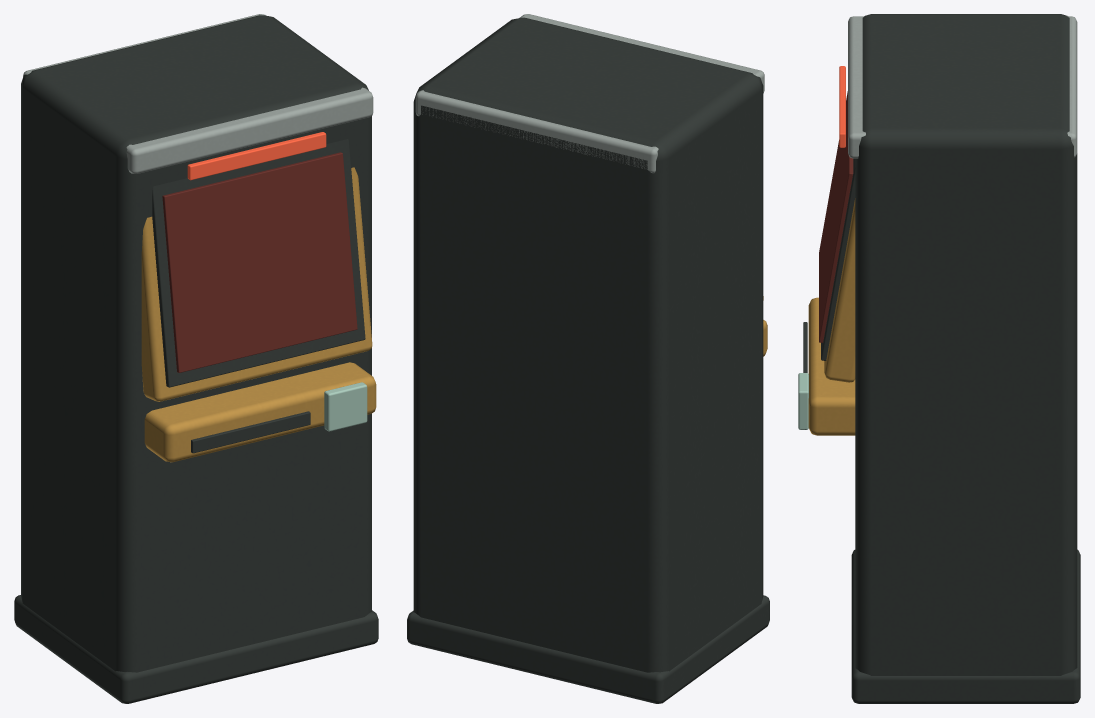
File: ticket-machine-broken.glb
The picture shows the model from 3 angles, left to right: view 1: azimuth 30°, elevation 25°; view 2: azimuth 150°, elevation 25°; view 3: azimuth 270°, elevation 25°; orthographic projection. The views are drawn at different scales.
Parts seen in each view (by area): view 1: chassis, screen, foot_plinth, ticket_shelf, screen_recess, top_cap, screen_frame, status_indicator, card_reader, ticket_slot; view 2: chassis, foot_plinth, top_cap; view 3: chassis, foot_plinth, ticket_shelf, screen, top_cap, screen_frame, screen_recess, card_reader, status_indicator.
Boxes of the visible parts, x1,y1,x2,y2 form: chassis: (21,15,371,672); screen: (162,152,357,372); foot_plinth: (14,595,378,703); ticket_shelf: (144,362,376,462); screen_recess: (152,139,365,387); top_cap: (23,14,373,173); screen_frame: (141,167,372,401); status_indicator: (187,132,326,180); card_reader: (324,382,367,431); ticket_slot: (191,411,310,453); chassis: (413,17,763,672); foot_plinth: (407,595,769,703); top_cap: (415,14,764,173); chassis: (855,14,1077,675); foot_plinth: (851,549,1080,703); ticket_shelf: (808,297,855,435); screen: (819,91,853,342); top_cap: (848,16,1077,158); screen_frame: (824,198,855,382); screen_recess: (821,158,855,360); card_reader: (798,373,808,429); status_indicator: (839,66,845,147).
Size of what is drawn, in the model's own units: 0.85 by 1.76 by 0.789.
6 materials, 3 textured.
